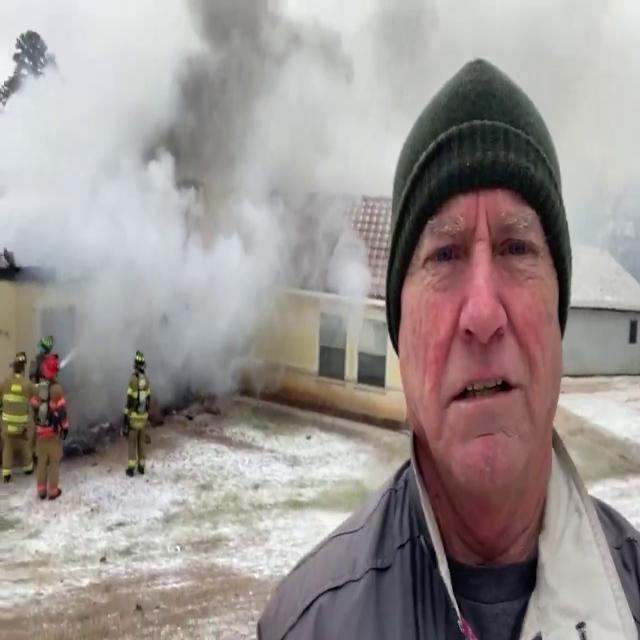Smoke: (9, 0, 430, 433)
